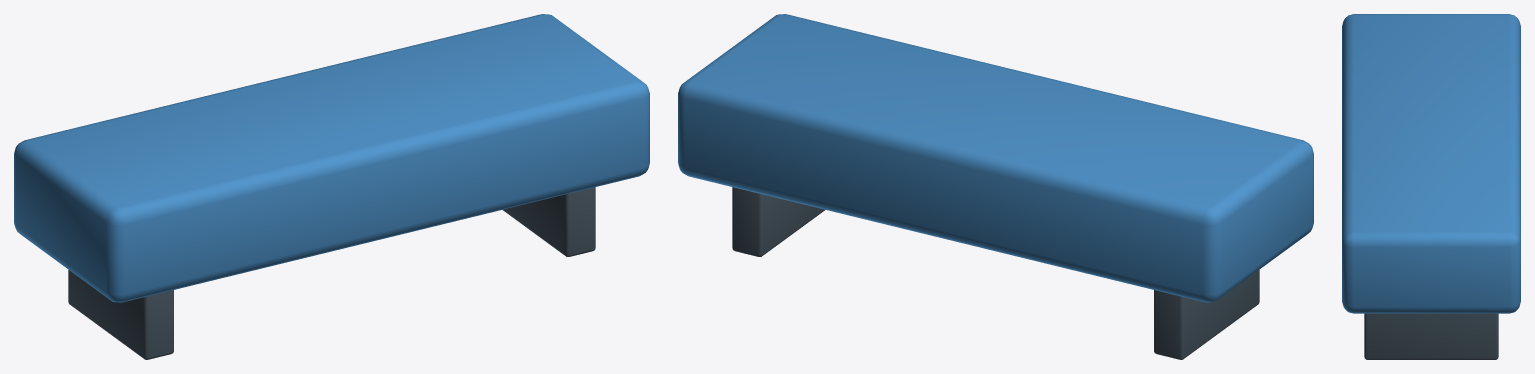
Rendered from water_trough.glb.
The picture shows the model from 3 angles, left to right: view 1: azimuth 30°, elevation 25°; view 2: azimuth 150°, elevation 25°; view 3: azimuth 270°, elevation 25°; orthographic projection. The views are drawn at different scales.
Parts seen in each view (by area): view 1: Body; view 2: Body; view 3: Body.
Boxes of the visible parts, left/top/right/bottom form: Body: left=14, top=14, right=649, bottom=359; Body: left=678, top=14, right=1313, bottom=359; Body: left=1342, top=14, right=1520, bottom=359.
Size of the model in its own units: 1.8 by 0.53 by 0.6.
